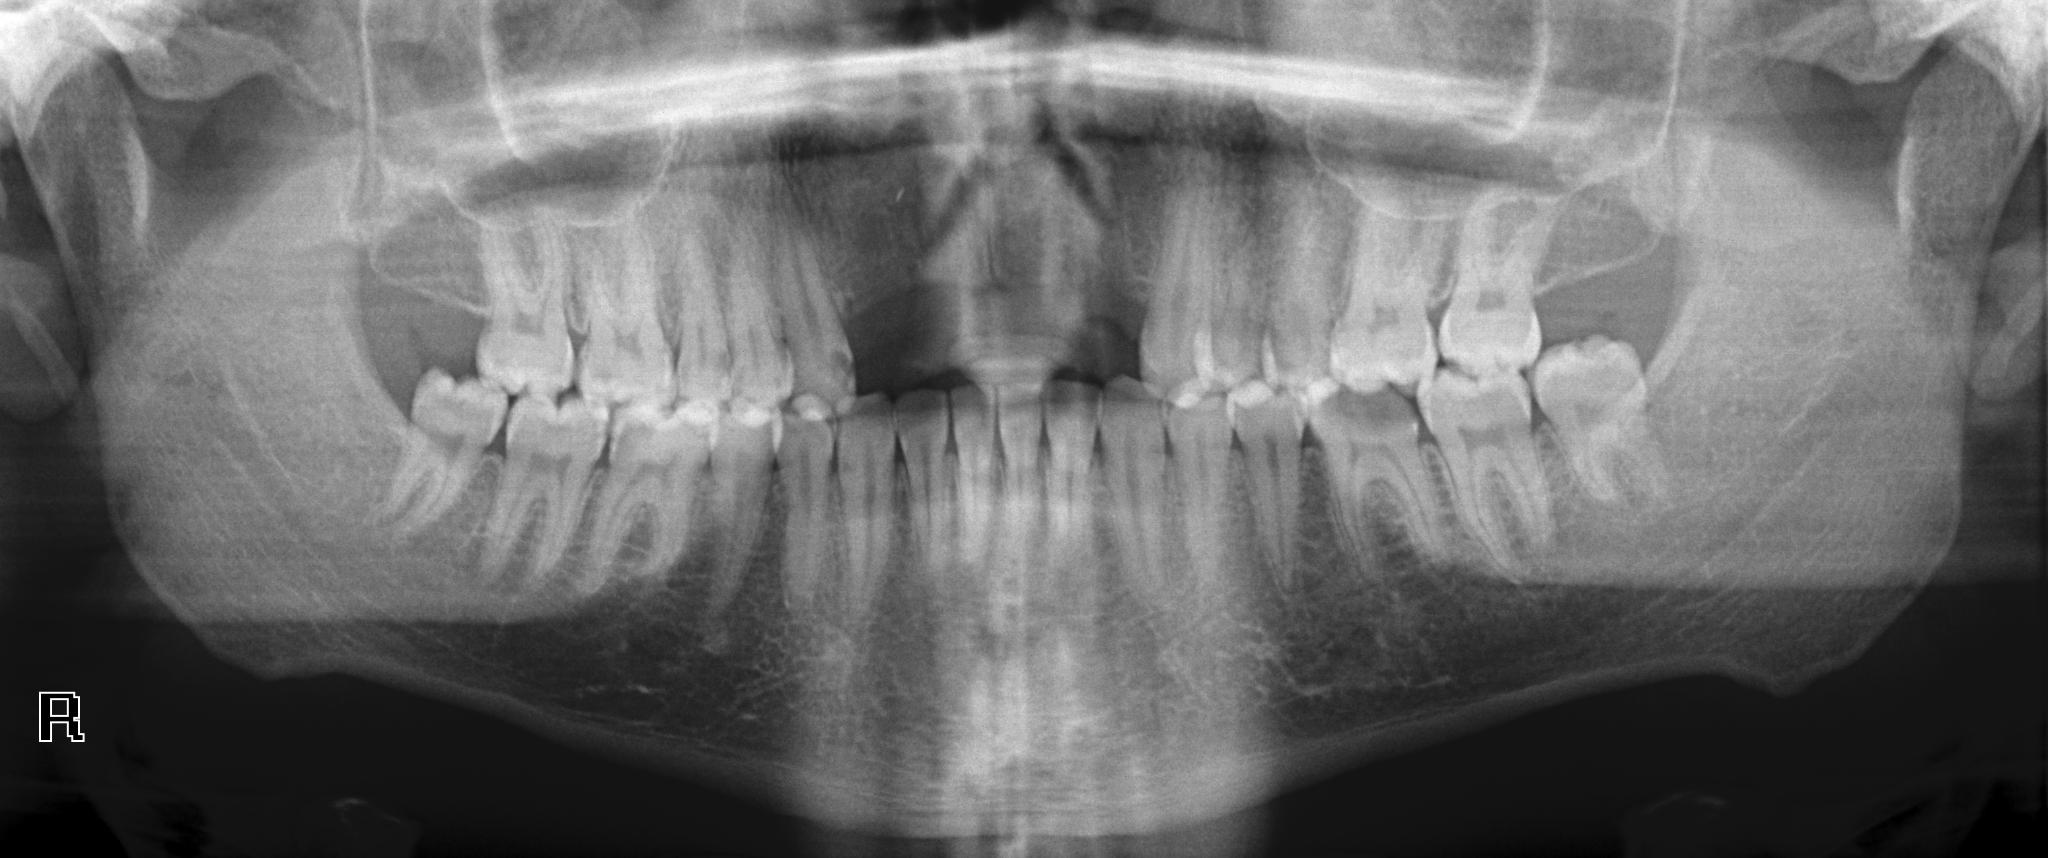Cavity: (895, 388, 952, 590)
